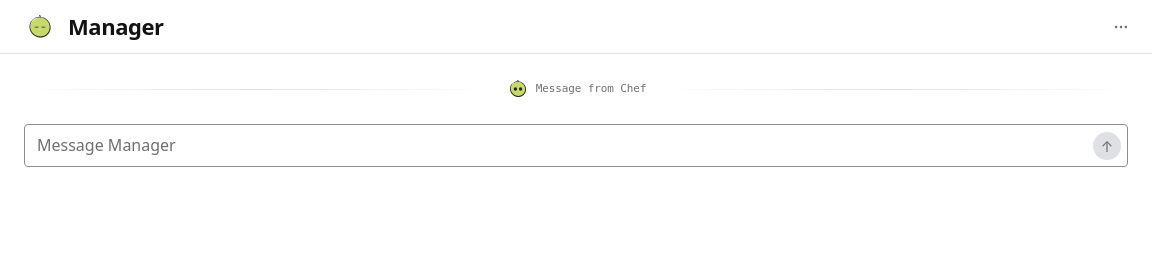
Test: peer traffic in a channel › does not offer to send anything from inside that thread
Step 1. Click the button "Message from Chef" → (576, 89), box [501, 74, 651, 104]
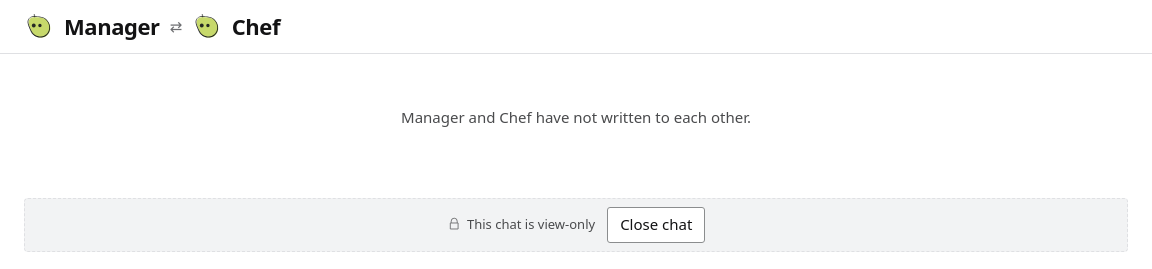
Expected: the text "This chat is view-only" is shown, [447, 215, 595, 234]
